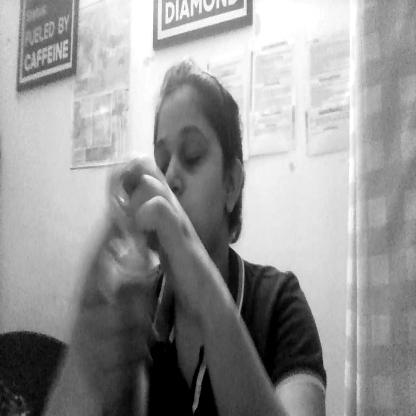Distracted: (145, 66, 250, 248)
